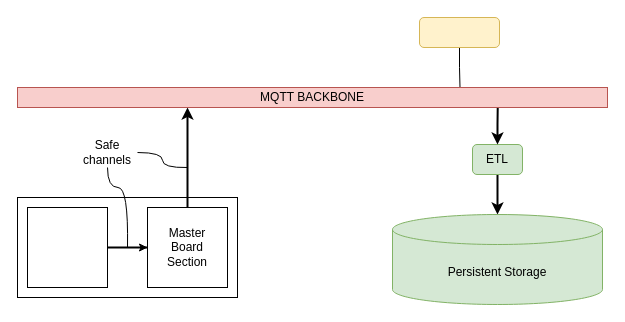
Some shapes in this 625 by 322 pixel diagram are drawn without their labels. Each missing label, with the centre of its shape:
"IDENTITIES SERVICE" belongs at pixel 459 32.
"Sensors Board Section" belongs at pixel 67 247.
